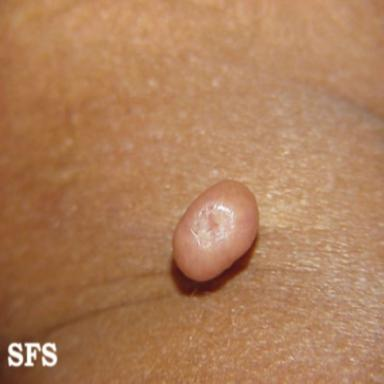Molluscum-Contagiosum: (173, 180, 259, 281)
